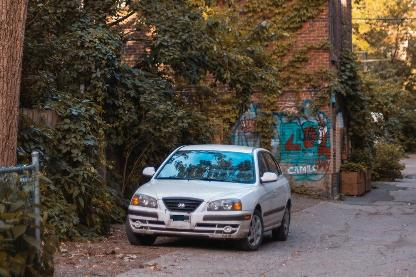car: (123, 134, 300, 253)
